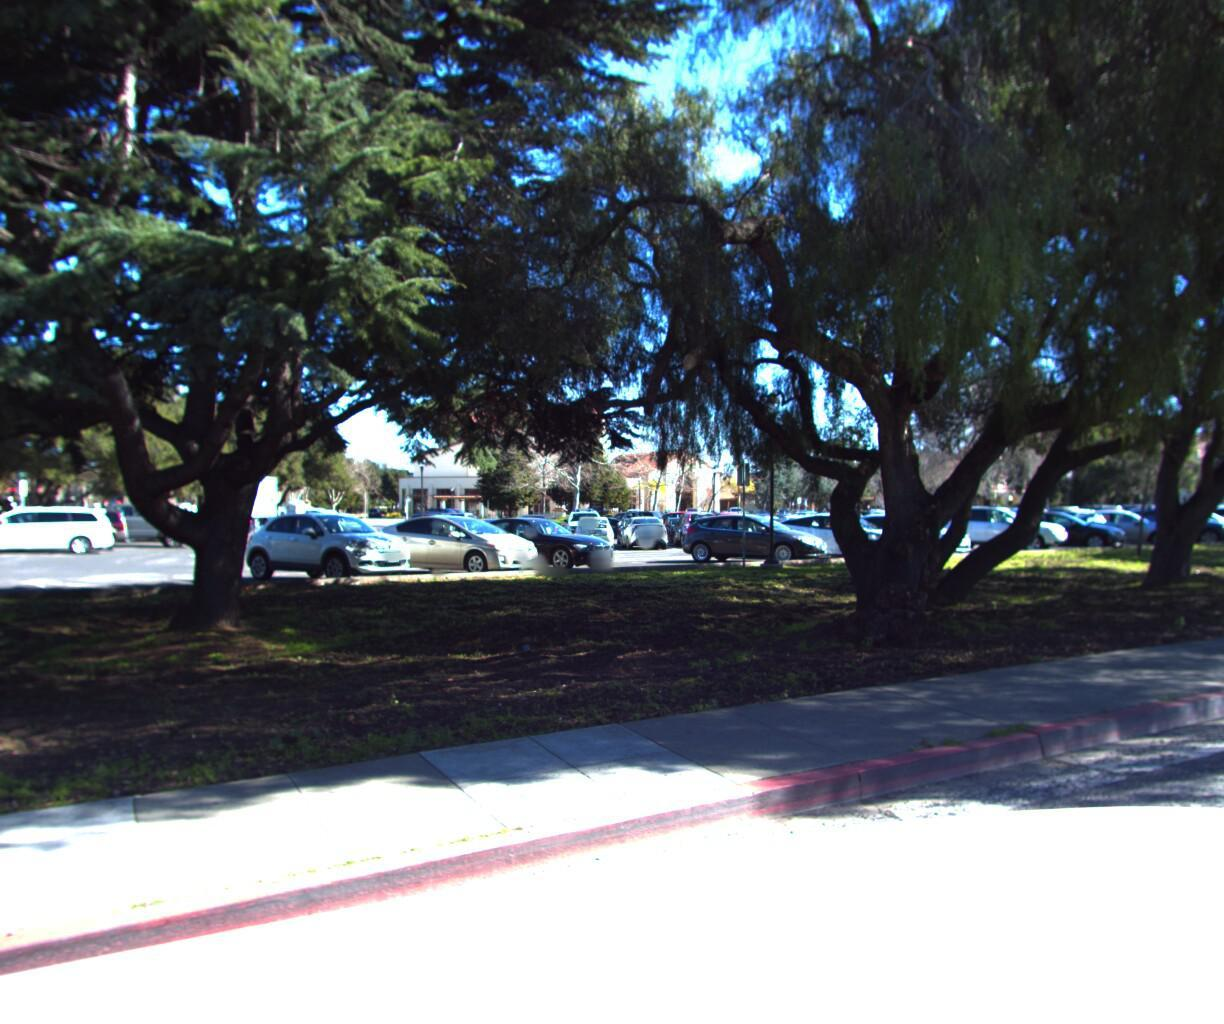car: (0, 509, 111, 558)
